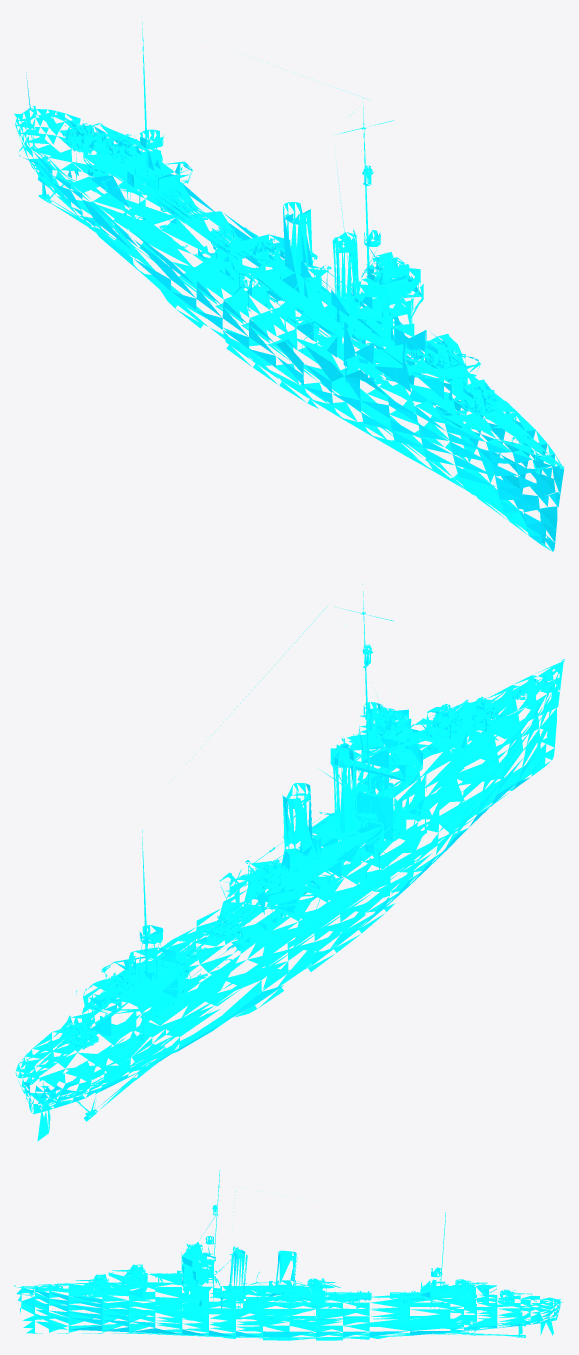
File: PASD005.glb
3 renders of one model, top to bottom at view 1: azimuth 30°, elevation 25°; view 2: azimuth 150°, elevation 25°; view 3: azimuth 270°, elevation 25°, orthographic. The views are drawn at different scales.
Visible parts, largest first — view 1: hull_mid, secondary_battery, torpedo, hull_body, superstructure; view 2: hull_mid, secondary_battery, torpedo, superstructure, hull_body; view 3: hull_mid, secondary_battery, torpedo, hull_body.
Boxes of the visible parts, x1,y1,x2,y2 form: hull_mid: (14,22,564,551); secondary_battery: (56,112,503,415); torpedo: (150,188,254,259); hull_body: (424,334,498,412); superstructure: (366,252,409,285); hull_mid: (15,583,564,1141); secondary_battery: (57,692,503,1049); torpedo: (164,904,260,976); superstructure: (366,703,408,739); hull_body: (426,696,498,737); hull_mid: (14,1170,562,1340); secondary_battery: (75,1267,532,1303); torpedo: (336,1290,425,1301); hull_body: (89,1264,143,1289).
Bounding box in the file's own units: 0.6911 × 2.31 × 6.98.
